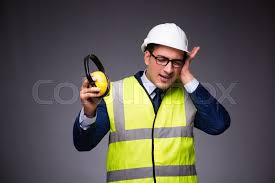Person_wearing_helmet: (139, 19, 200, 68)
